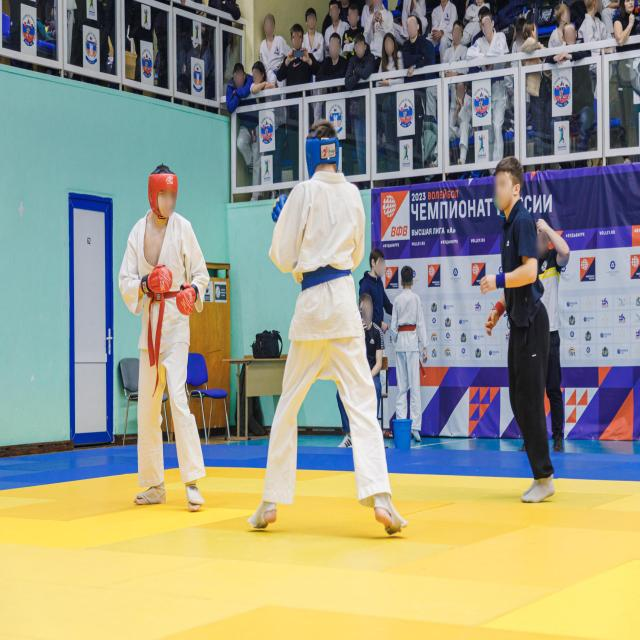Person: (262, 117, 396, 539), (122, 156, 216, 533), (479, 154, 561, 517), (537, 214, 572, 465), (392, 264, 430, 465), (354, 293, 386, 422), (440, 76, 470, 171), (286, 22, 312, 96), (344, 33, 374, 90), (262, 12, 284, 88), (366, 241, 386, 323), (324, 32, 349, 92), (403, 16, 429, 65), (377, 34, 401, 87), (248, 58, 274, 104), (223, 62, 249, 104), (478, 12, 500, 58), (446, 20, 468, 61), (305, 4, 317, 64), (345, 3, 361, 39), (330, 0, 343, 34), (564, 23, 579, 49)
